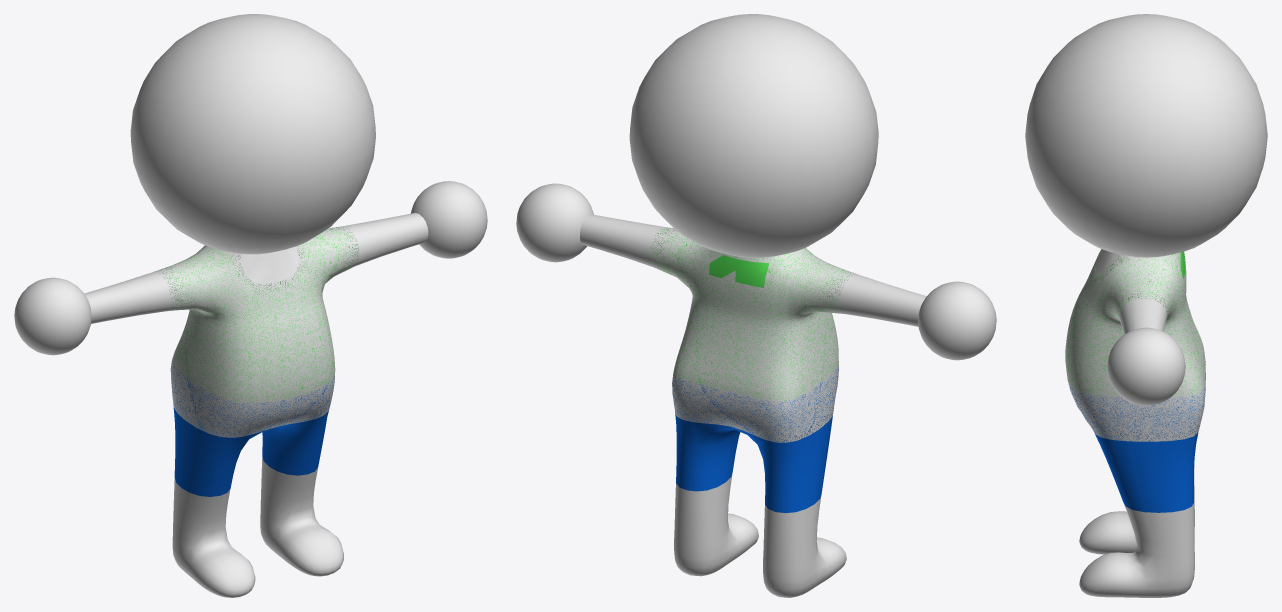
Rendered from with matedress.fbx.
3 views of the same model, side by side, from view 1: azimuth 30°, elevation 25°; view 2: azimuth 150°, elevation 25°; view 3: azimuth 270°, elevation 25° (orthographic).
Visible parts, largest first — view 1: Cube.001, Sphere, Sphere.002, Sphere.001; view 2: Cube.001, Sphere, Sphere.002, Sphere.001; view 3: Sphere, Cube.001, Sphere.001.
Boxes of the visible parts, box(x1,y1,x2,y2) form: Cube.001: box(84, 212, 428, 597); Sphere: box(130, 14, 375, 254); Sphere.002: box(14, 277, 91, 355); Sphere.001: box(410, 181, 487, 258); Cube.001: box(580, 214, 926, 597); Sphere: box(629, 14, 878, 257); Sphere.002: box(918, 281, 996, 360); Sphere.001: box(516, 183, 593, 262); Sphere: box(1025, 14, 1267, 257); Cube.001: box(1065, 249, 1205, 597); Sphere.001: box(1107, 327, 1185, 405).
Bounding box in the file's own units: 667 × 747 × 300.
